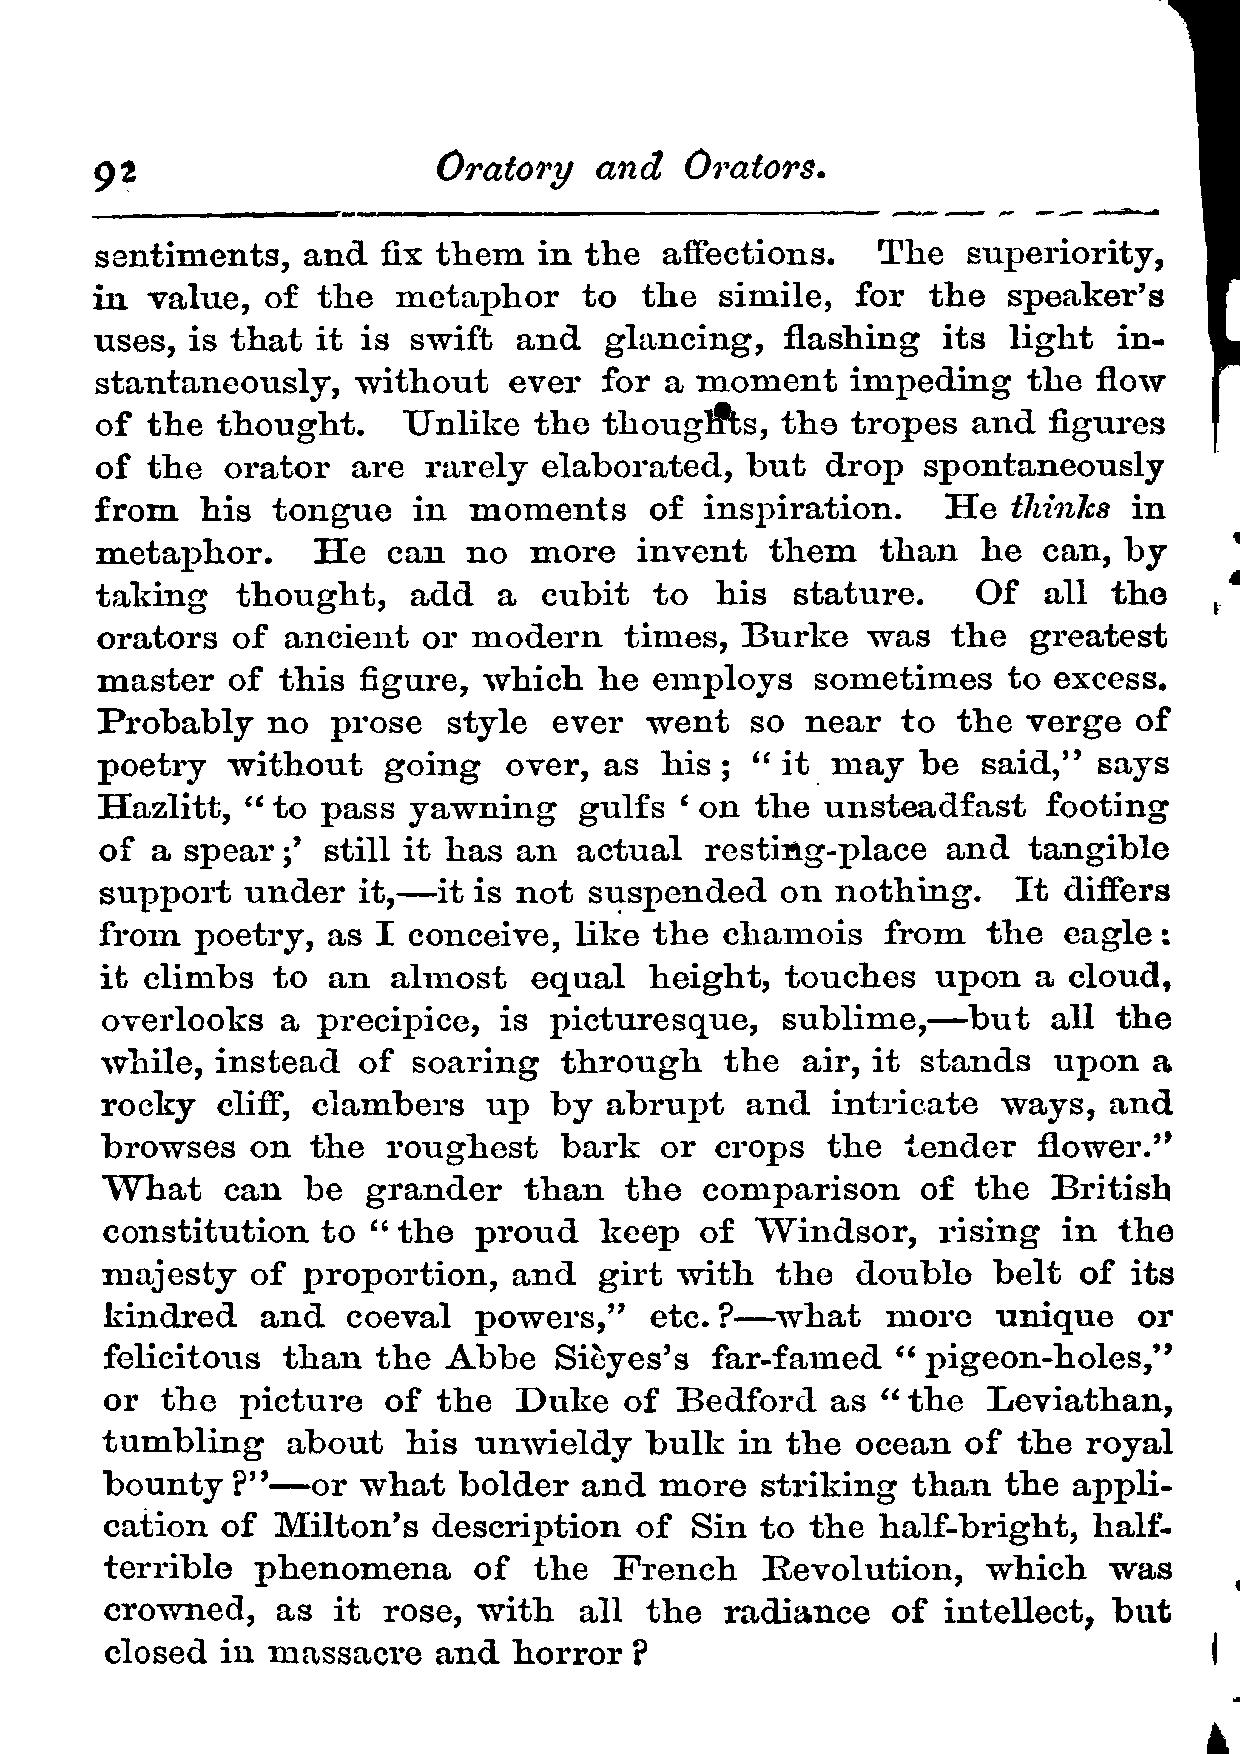content: (89, 234, 1174, 1673)
content_chapter: (425, 146, 832, 189)
content_pagenumber: (89, 148, 141, 197)
